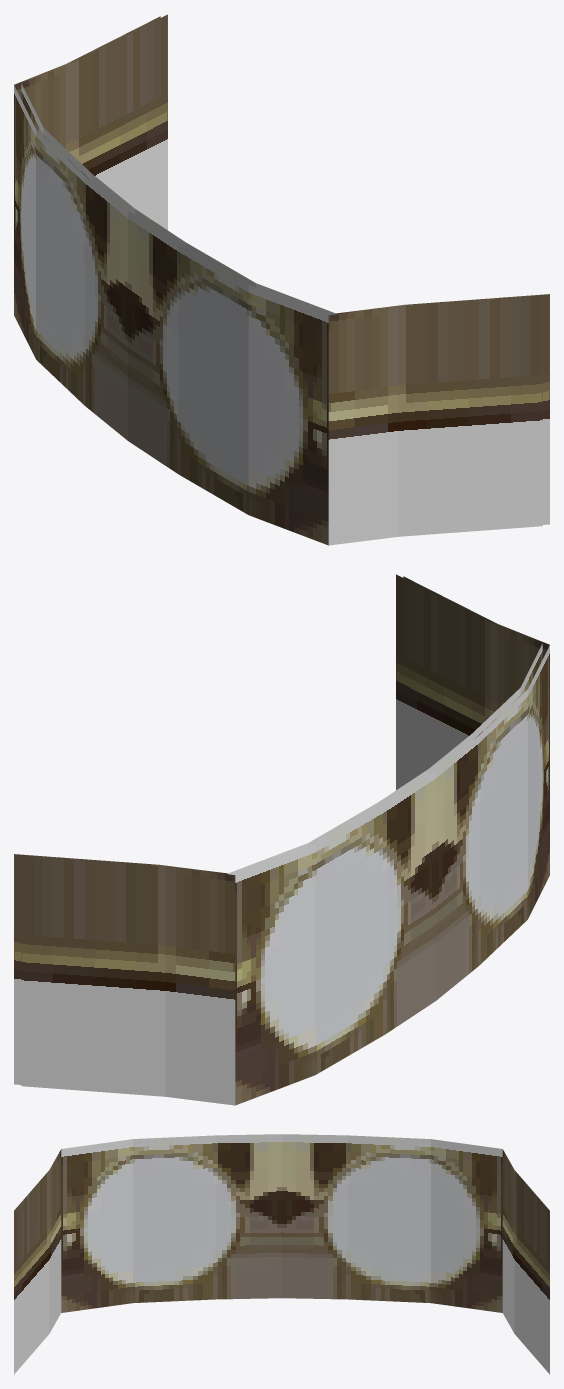
File: Cat_glasses.obj
3 views of the same model, one above another, from view 1: azimuth 30°, elevation 25°; view 2: azimuth 150°, elevation 25°; view 3: azimuth 270°, elevation 25° (orthographic). The views are drawn at different scales.
Visible parts, largest first — view 1: Cat_glasses_tri; view 2: Cat_glasses_tri; view 3: Cat_glasses_tri.
Boxes of the visible parts, x1,y1,x2,y2 form: Cat_glasses_tri: [14, 14, 549, 545]; Cat_glasses_tri: [14, 574, 549, 1105]; Cat_glasses_tri: [14, 1134, 549, 1374].
Size of the model in its own units: 0.064 by 0.061 by 0.1834.
Materials: 1 (1 with a texture image).
